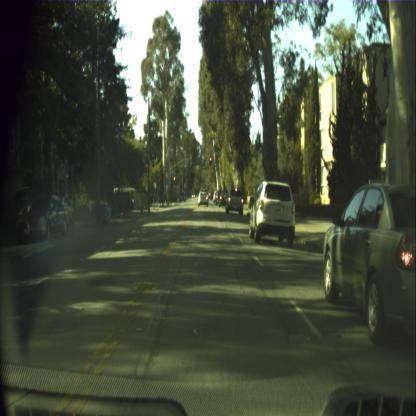Red: (209, 156, 211, 165), (173, 176, 175, 184)
